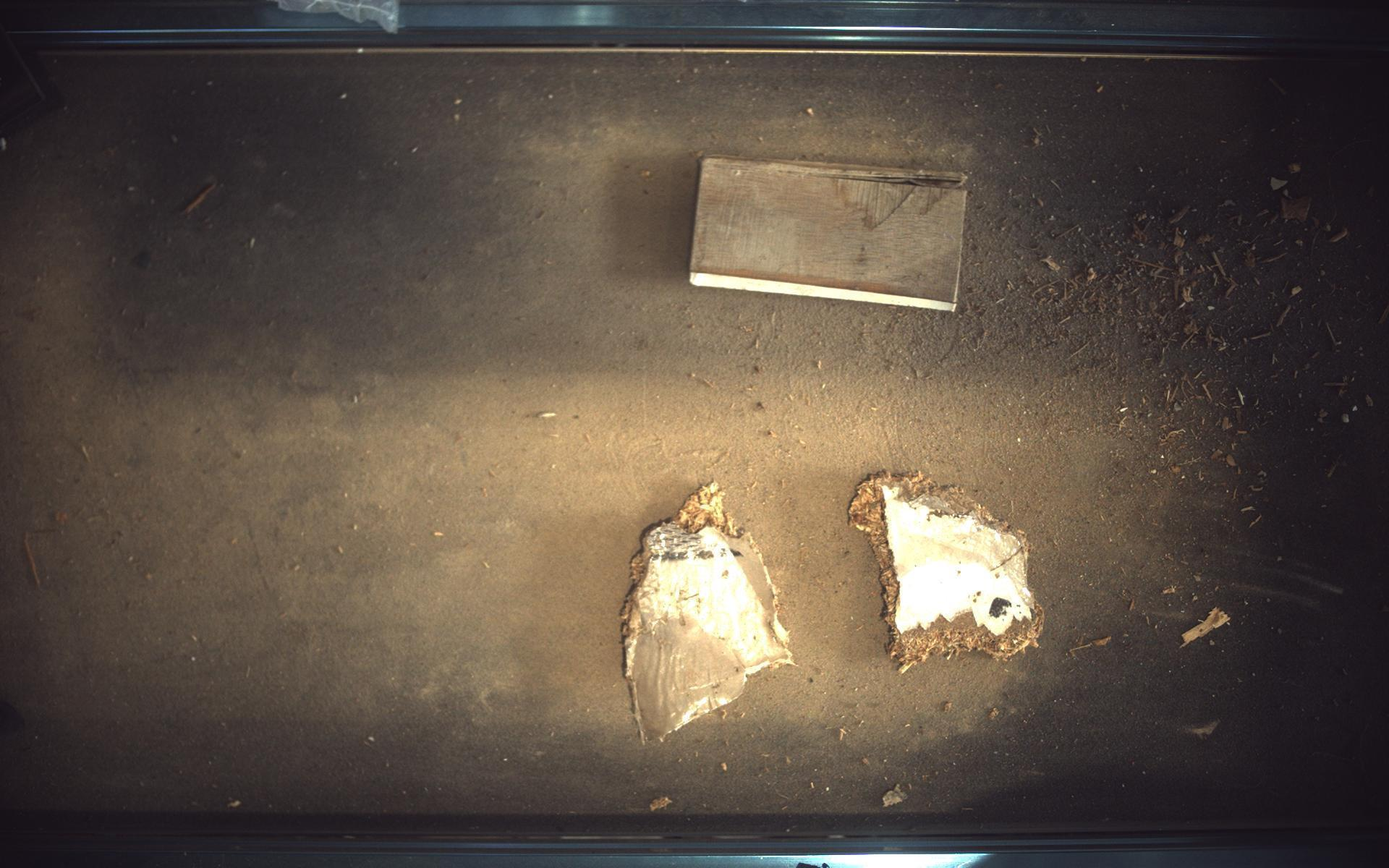wood: (623, 482, 794, 743), (691, 156, 969, 310), (851, 472, 1046, 673)
